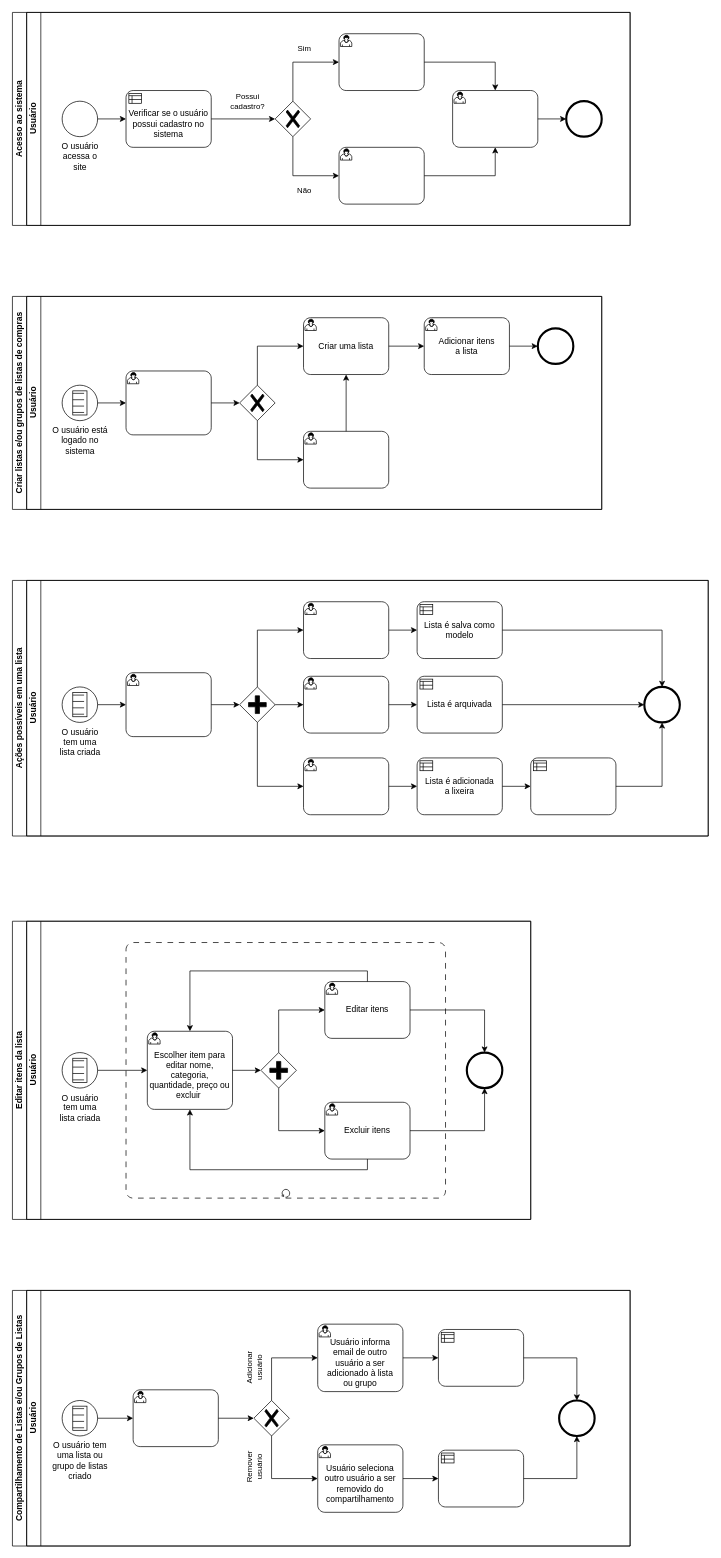
The diagram is 721 pixels wide and 1558 high, and some of its shapes have lost their labels. Each missing label, with the centre of its shape:
"Arquivar" belongs at pixel 346 704.
"Autentivar cadastro existente" belongs at pixel 381 62.
"Criar cadastro" belongs at pixel 381 175.
"Criar um grupo de listas" belongs at pixel 346 459.
"Escolher entre a criação de uma lista ou um grupo de listas" belongs at pixel 168 402.
"Escolher entre marcar como modelo, arquivar ou excluir" belongs at pixel 168 704.
"Excluir" belongs at pixel 346 786.
"Lista é excluída após 7 dias" belongs at pixel 573 786.
"Marcar como modelo" belongs at pixel 346 630.
"Usuário deseja gerenciar o compartilhamento" belongs at pixel 175 1418.
"Usuário está logado na sua conta" belongs at pixel 495 118.
"Usuário é adicionado à lista ou grupo" belongs at pixel 481 1357.
"Usuário é removido do compartilhamento" belongs at pixel 481 1478.
